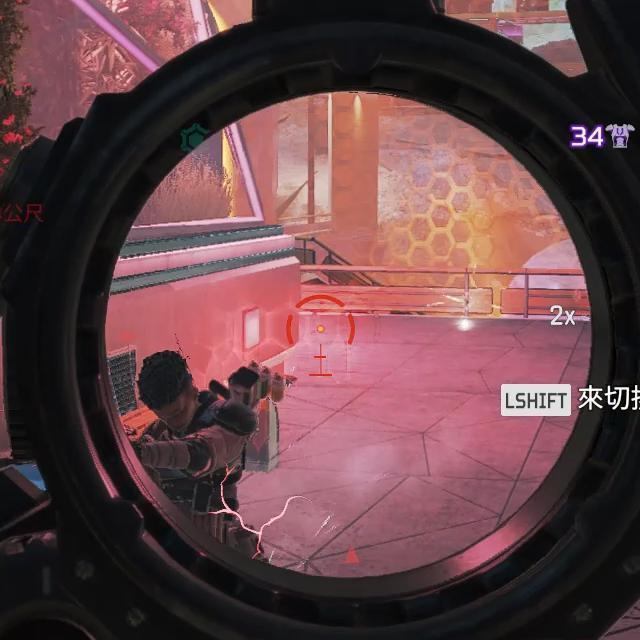avatar: (131, 347, 259, 547)
